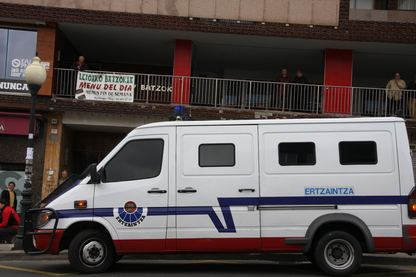ambulance: (22, 106, 416, 276)
